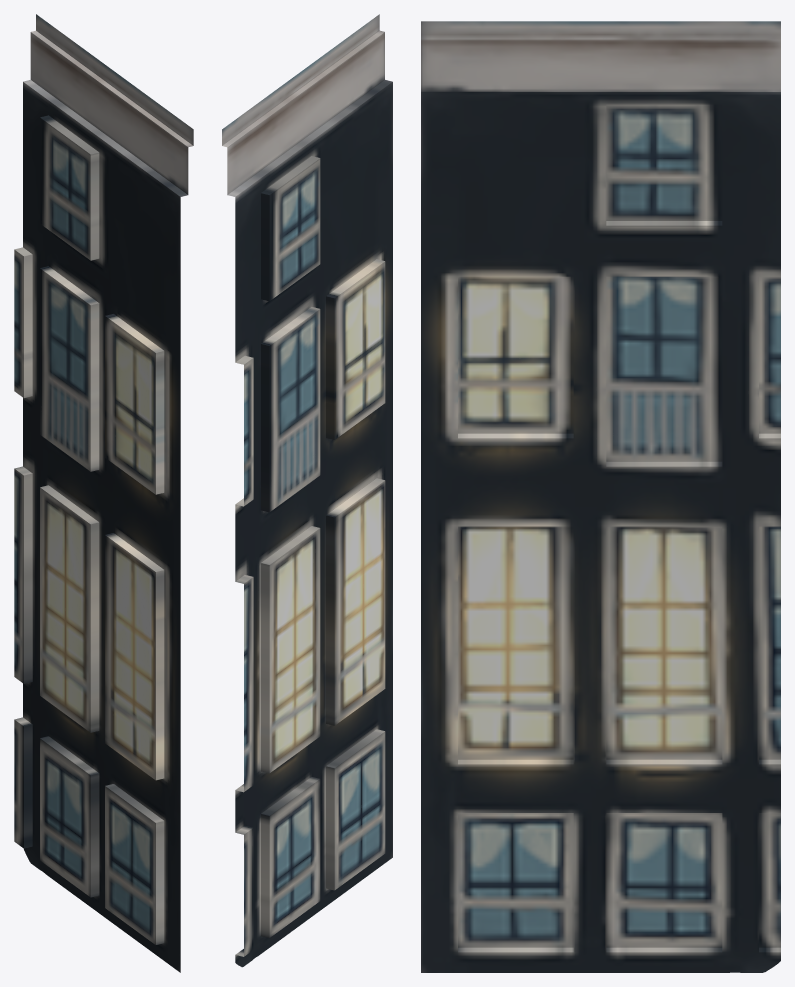
The model's file is Mesh_Exterior_House4.fbx.
3 views of the same model, side by side, from view 1: azimuth 30°, elevation 25°; view 2: azimuth 150°, elevation 25°; view 3: azimuth 270°, elevation 25° (orthographic). The views are drawn at different scales.
Parts seen in each view (by area): view 1: House4; view 2: House4; view 3: House4.
Part boxes in pixels (<box>): House4: <box>14,14,193,972</box>; House4: <box>222,14,392,967</box>; House4: <box>421,21,780,972</box>.
Size of the model in its own units: 11.19 by 414 by 141.
